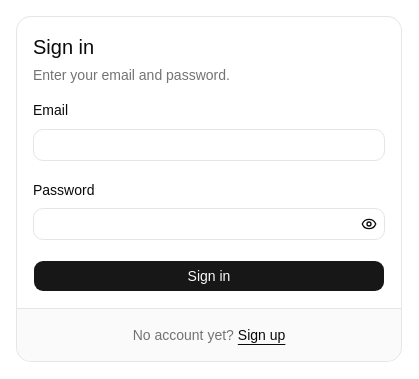
Test: /signin: success lands on /app with the welcome text
The image size is (419, 379).
Type "ann@example.com" into the field labelled "Email" at (209, 144), box x1=33 y1=128 x2=385 y2=160
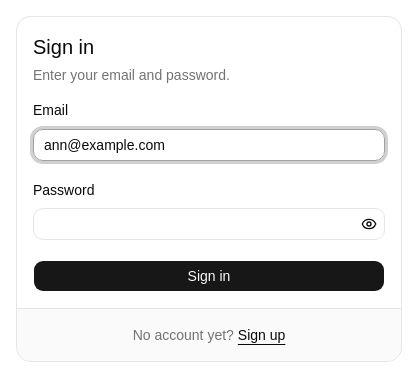
Type "short" into the password field labelled "Password" at (209, 224), box x1=33 y1=208 x2=385 y2=240
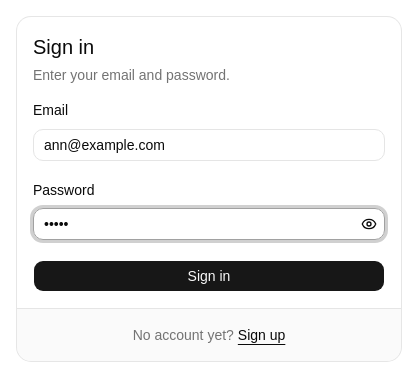
Click the button "Sign in" at (209, 276), box x1=33 y1=260 x2=385 y2=292
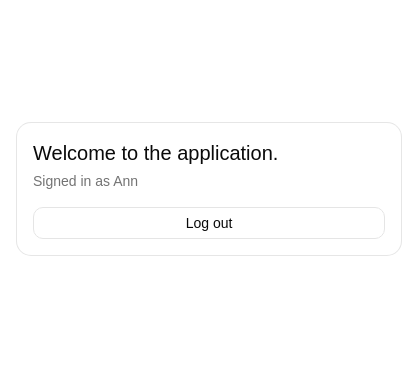
Check: the heading "Welcome to the application." is shown, box x1=33 y1=142 x2=278 y2=164
Check: the text "Signed in as Ann" is shown, box x1=33 y1=173 x2=138 y2=189
